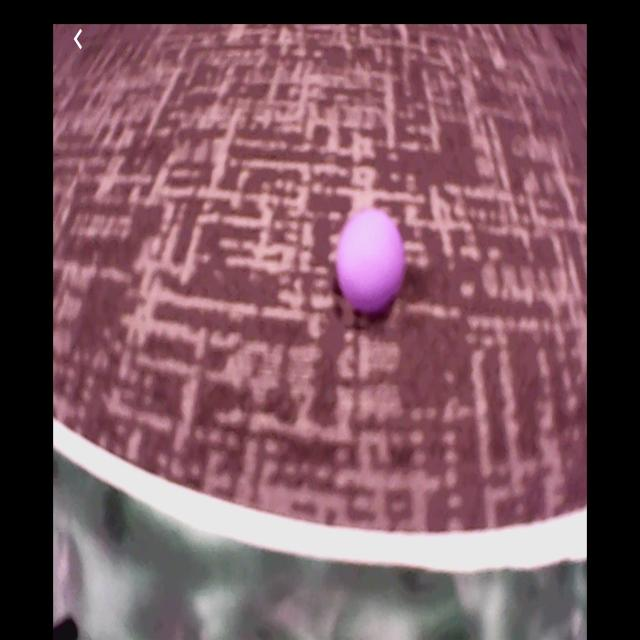ball: (337, 207, 405, 309)
